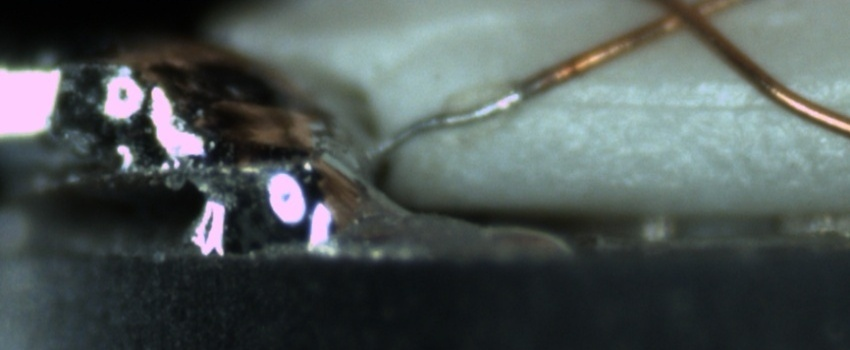CL: (652, 0, 730, 41)
DL: (527, 73, 784, 134)
TS: (368, 79, 546, 160)
TTCW: (364, 47, 602, 165)
